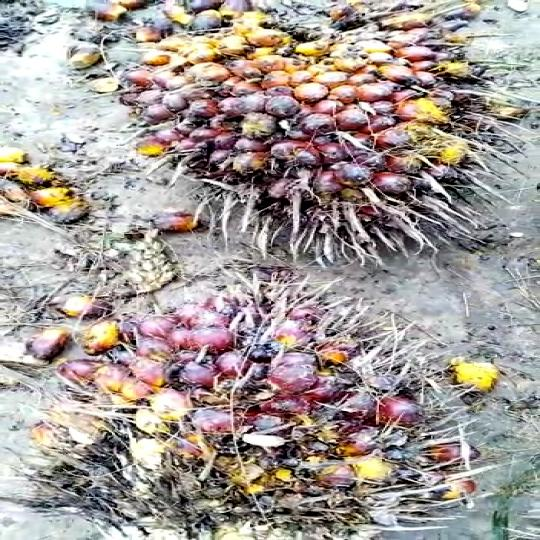masak: (49, 0, 523, 263), (50, 296, 480, 540)
